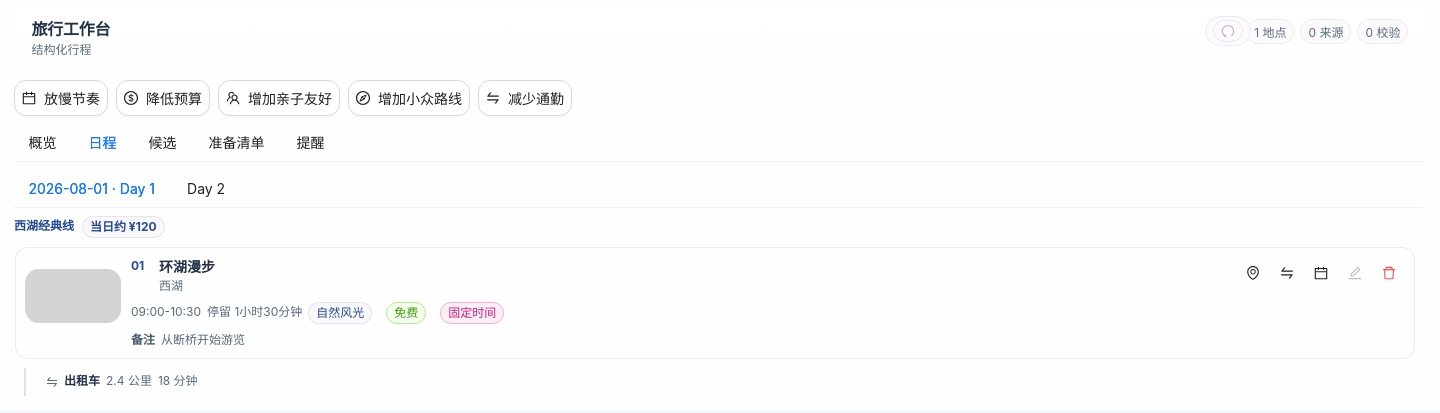
Test: TripWorkspace › shows a blocked draft and focuses its first hard error
This screenshot has width=1440, height=413.
Click the tab "提醒".
click(310, 143)  # box [296,132,324,154]
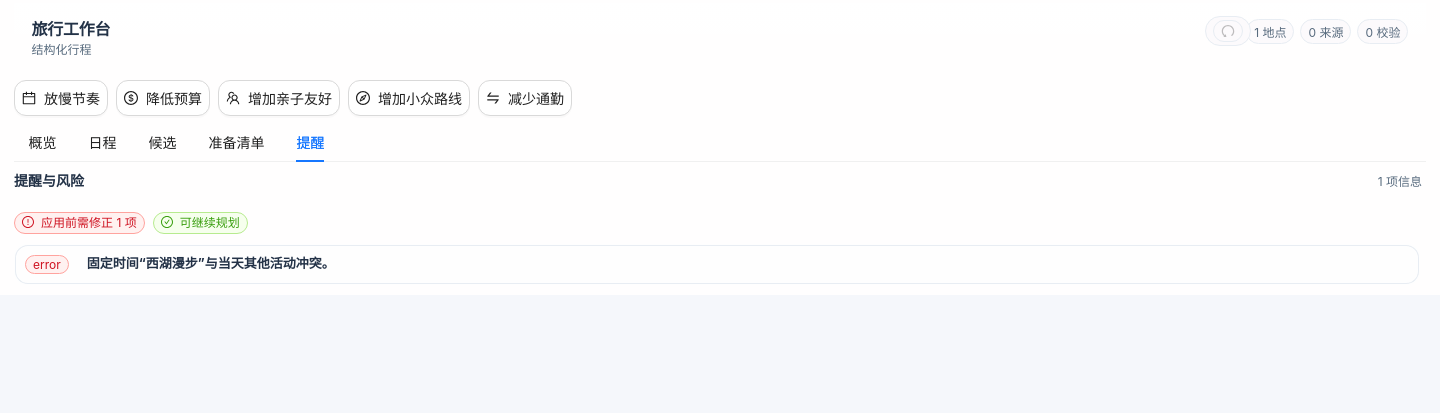
expect the text "固定时间“西湖漫步”与当天其他活动冲突。" is shown: met, box [87,255,335,272]
